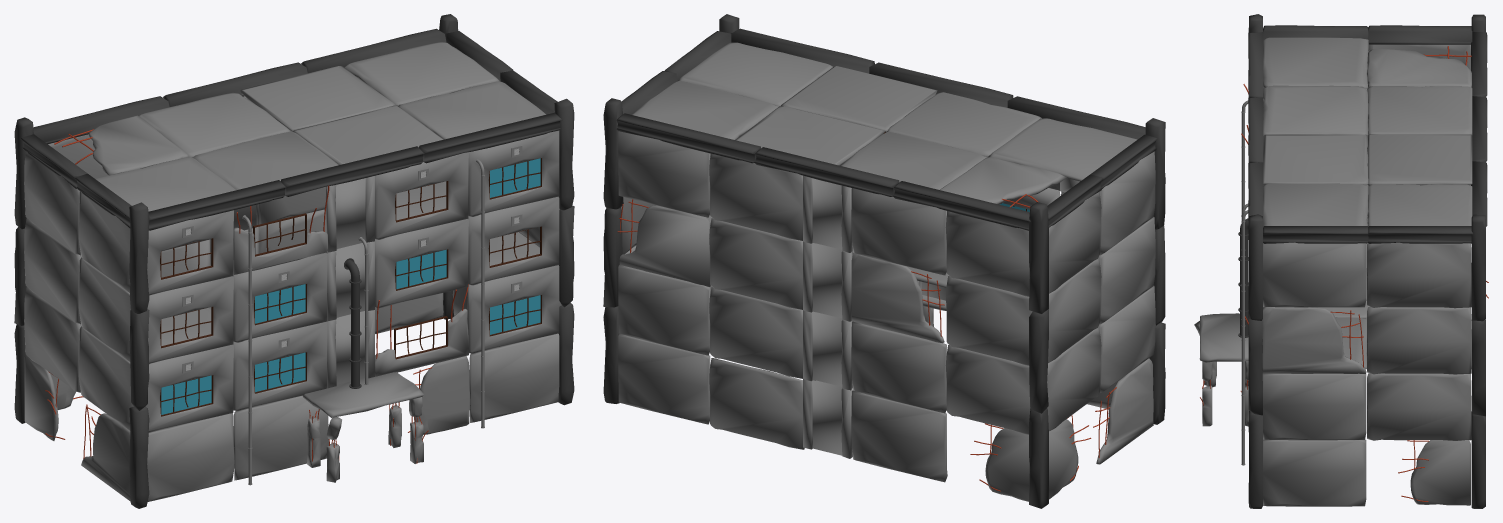
File: SM_building_ruins_08.fbx
3 renders of one model, left to right at view 1: azimuth 30°, elevation 25°; view 2: azimuth 150°, elevation 25°; view 3: azimuth 270°, elevation 25°, orthographic. The views are drawn at different scales.
Visible parts, largest first — view 1: Object32552; view 2: Object32552; view 3: Object32552.
Boxes of the visible parts, x1,y1,x2,y2 form: Object32552: [14, 14, 574, 508]; Object32552: [603, 14, 1165, 508]; Object32552: [1194, 14, 1488, 508].
Size of the model in its own units: 934 by 603 by 554.
